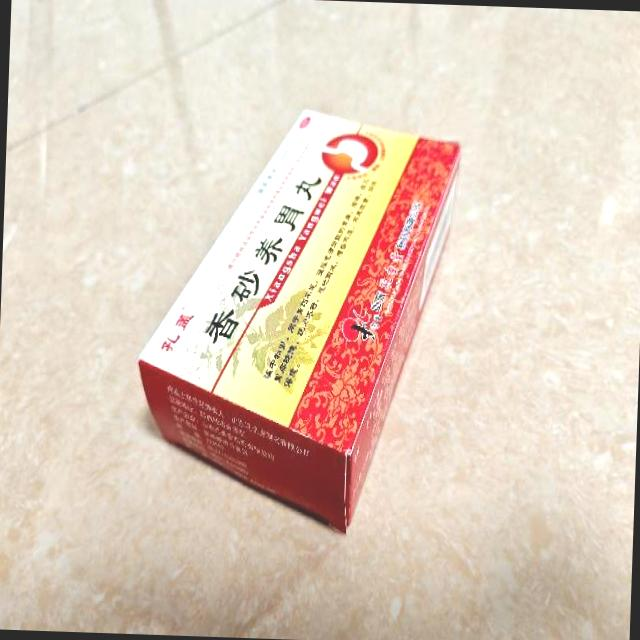box: (134, 102, 462, 536)
